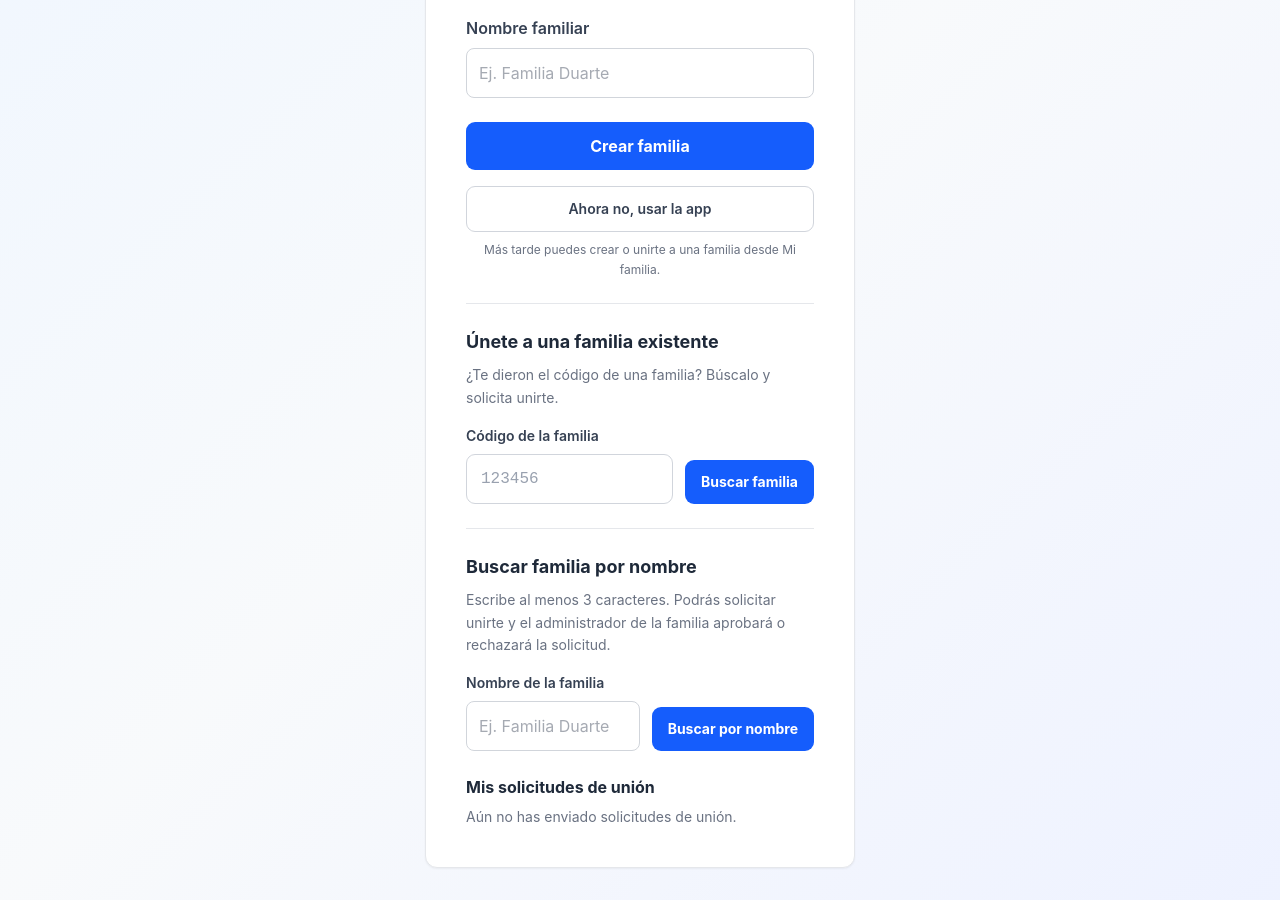
Scenario: HogarPendiente › valida el mínimo de 3 caracteres antes de buscar por nombre
(page scrolled)
Type "Du" into the search field labelled "Nombre de la familia".
click(553, 726); type("Du")  # box [466,701,640,751]
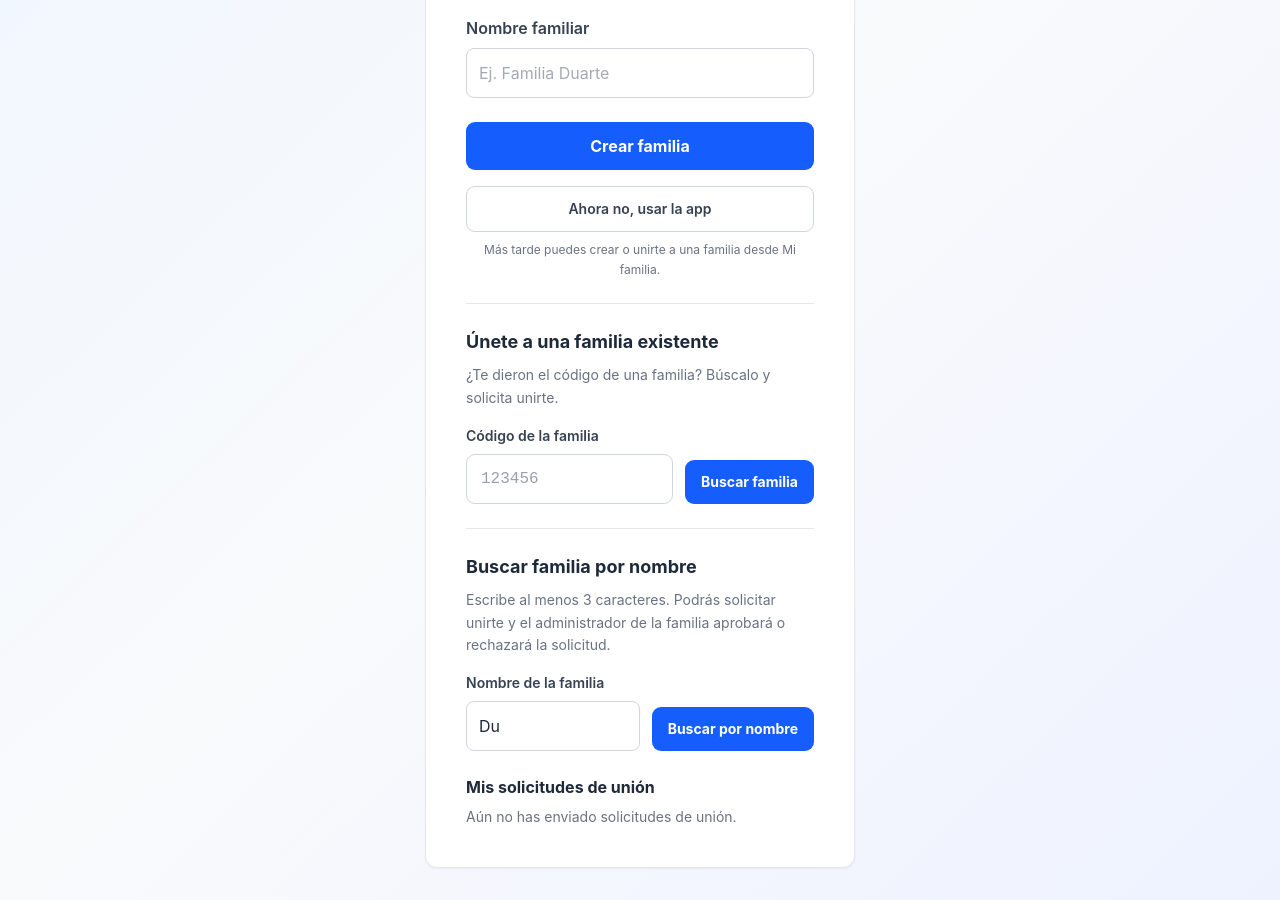
Click the button "Buscar por nombre".
click(733, 729)  # box [652,707,814,751]
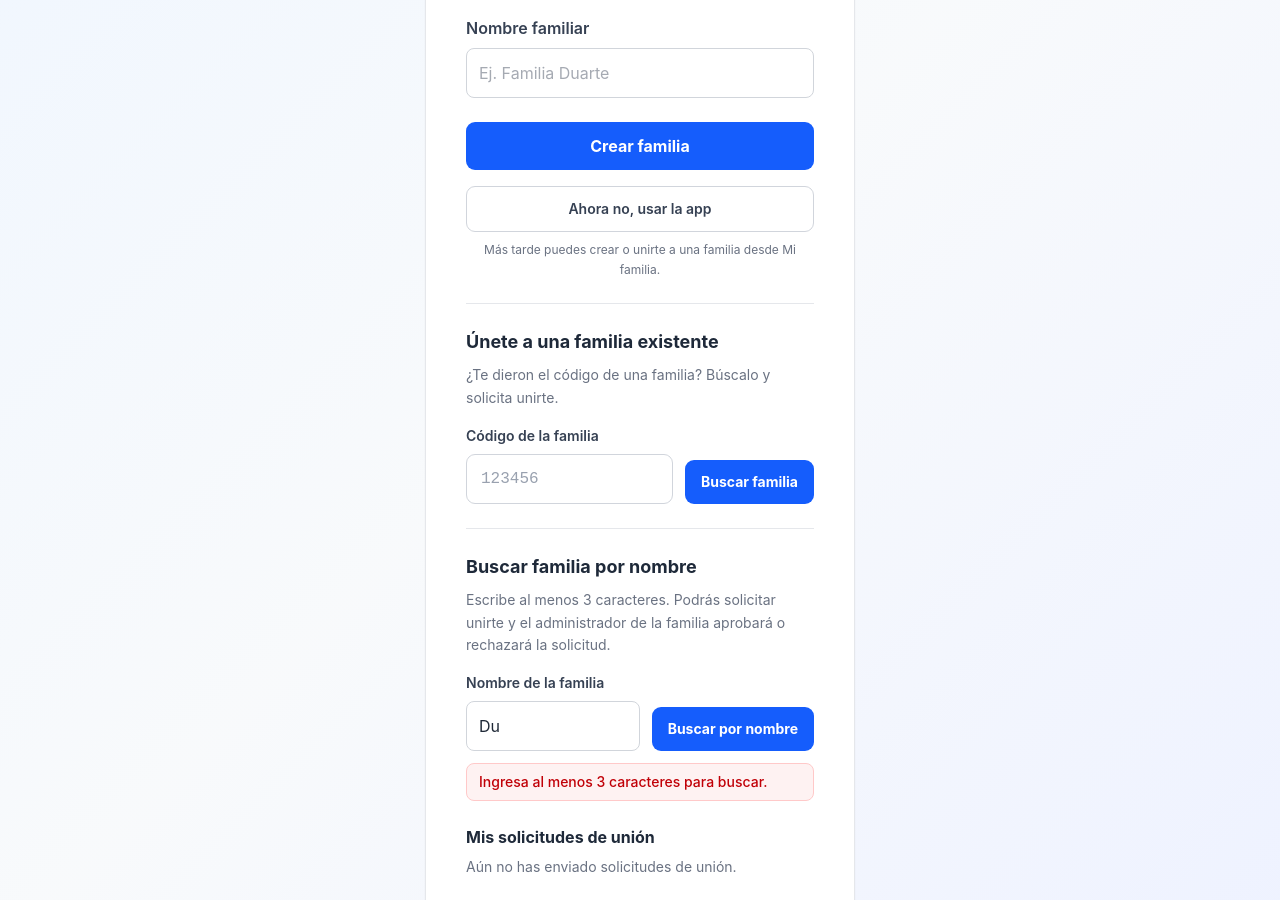
Result: the text "Ingresa al menos 3 caracteres para buscar." is shown at [466,763,814,801]
